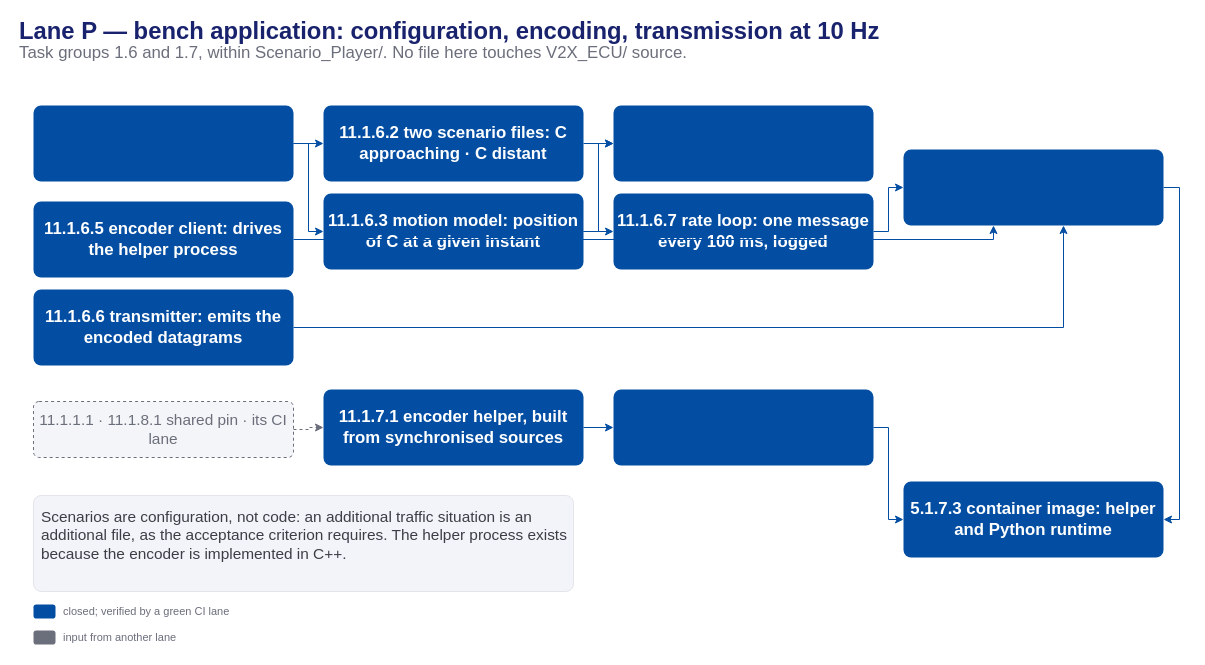
Image size: 1205x665. Some labels were removed from this diagram. The box of each missing label's shape, as (x1, y1, x2, y2) in pixels:
11.1.6.1 configuration loader: sole environment reader: (33, 105, 293, 181)
11.1.6.4 verification: the files give different message streams: (613, 105, 873, 181)
11.1.6.8 main.py: the entrypoint the platform starts: (903, 149, 1163, 225)
11.1.7.2 byte-level verification against reference messages: (613, 389, 873, 465)
